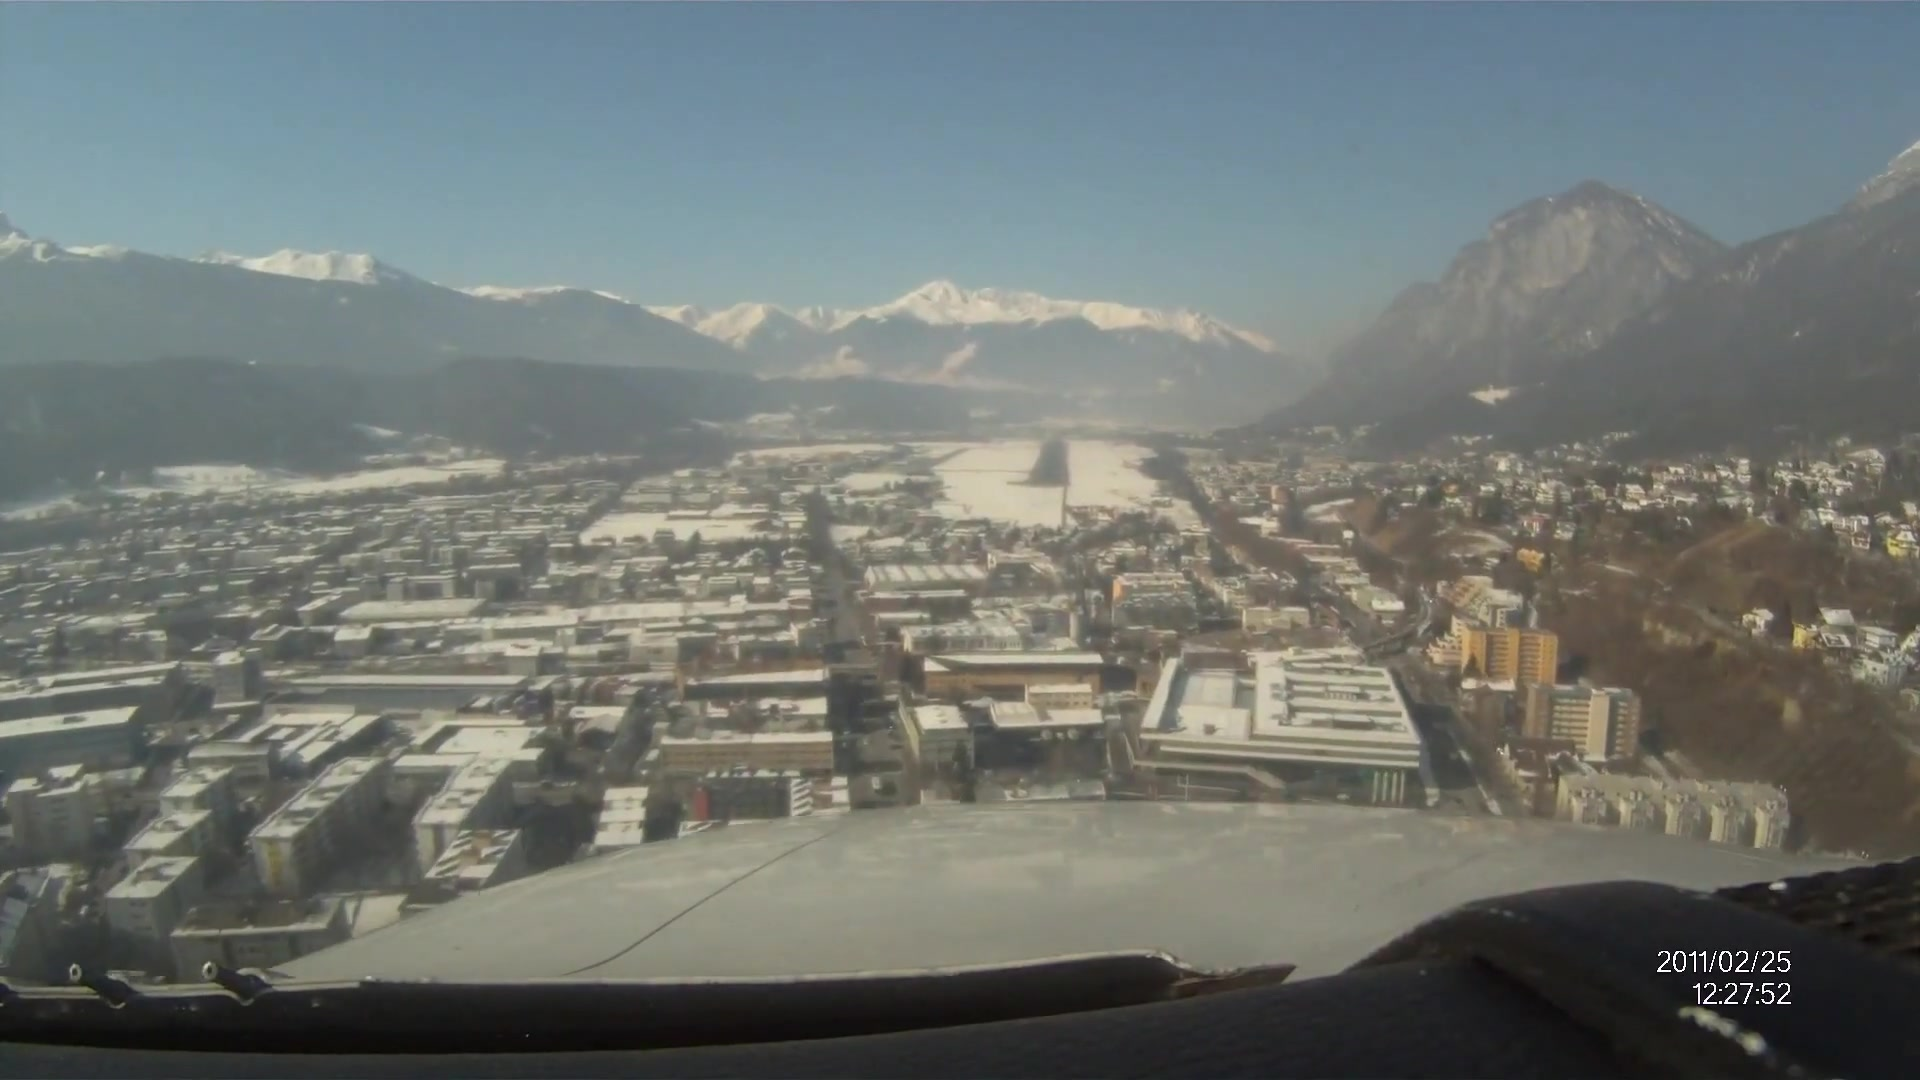runway: (1025, 436, 1075, 489)
